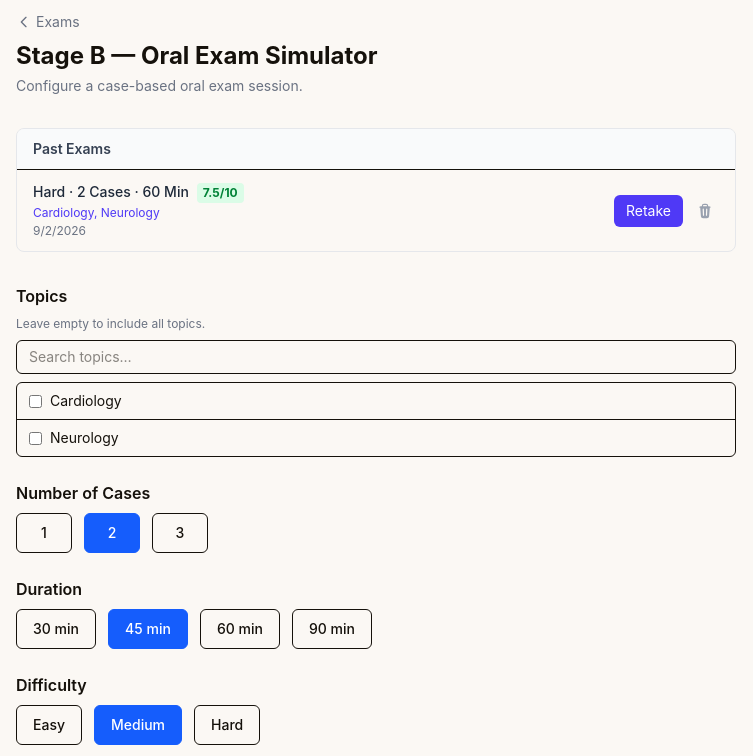
Scenario: StageBExamPage — settings phase › delete button removes exam from list
Click the button titled "Delete exam". click: (705, 210)
box: [691, 196, 719, 224]
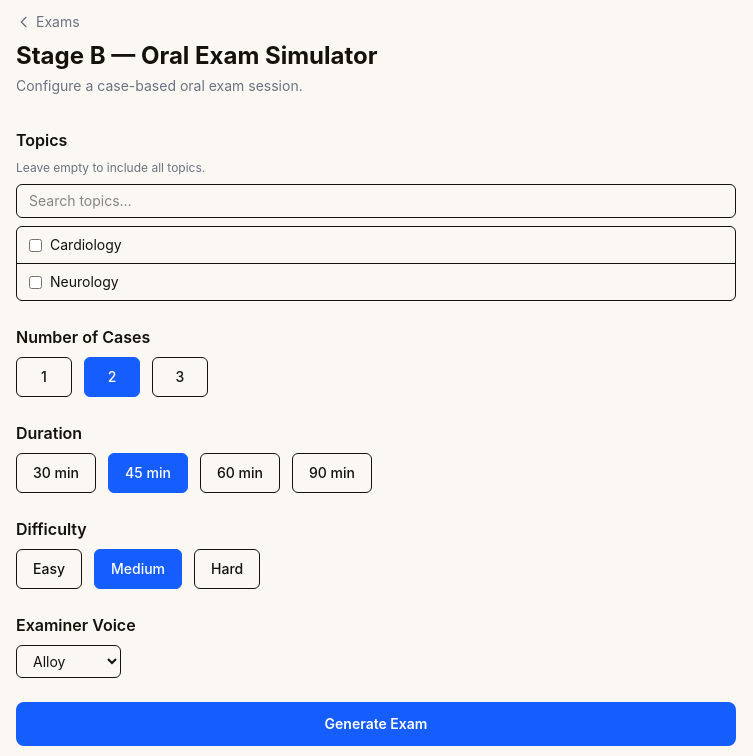
Check: the button "Retake" is gone
